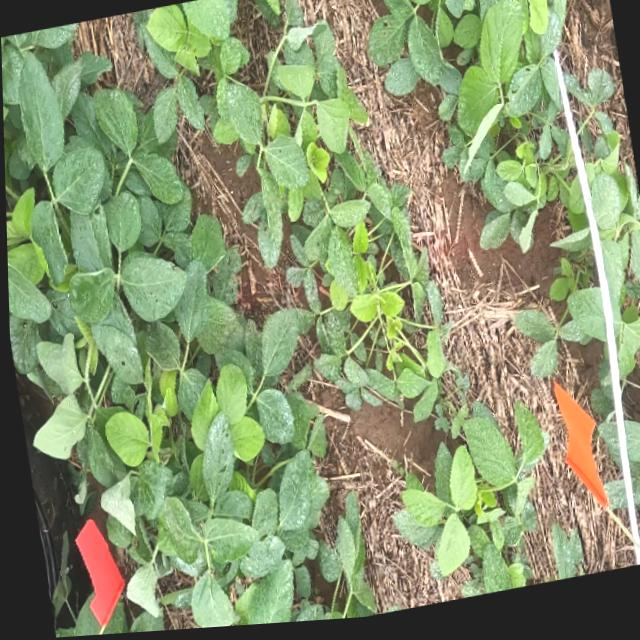soy_plant: (1, 26, 371, 638), (137, 0, 451, 424), (368, 0, 616, 473), (389, 411, 545, 603), (564, 75, 640, 415), (457, 0, 548, 145), (482, 0, 551, 103), (547, 531, 572, 586), (432, 408, 466, 444), (602, 488, 621, 515)
